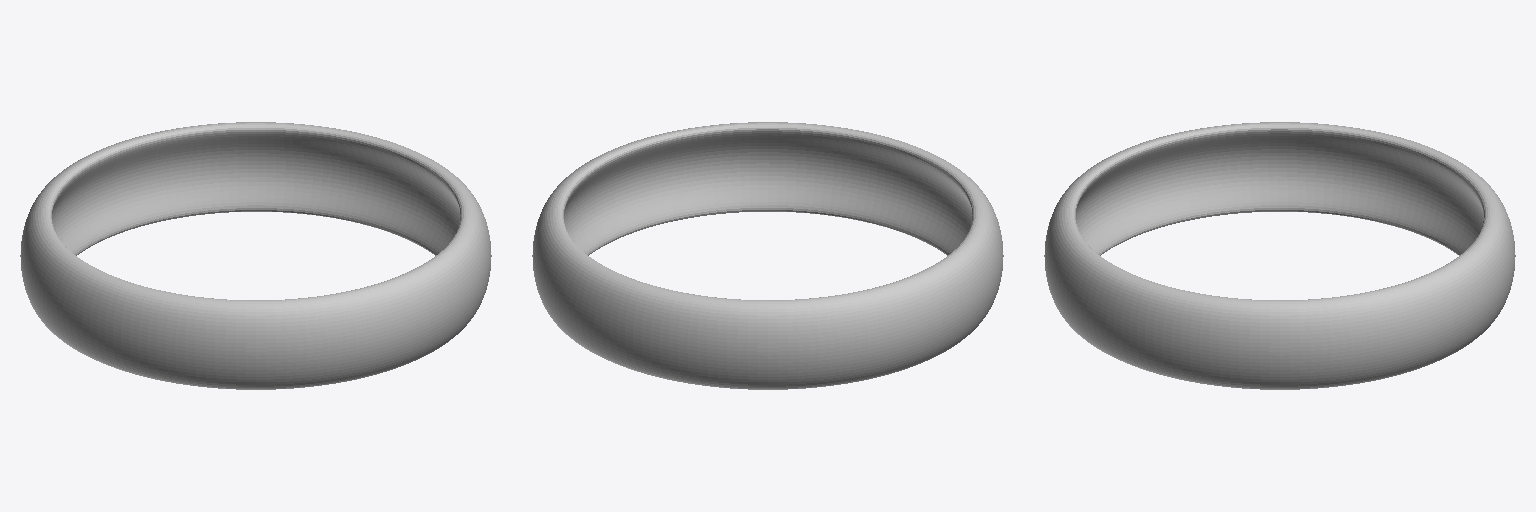
Rendered from ring2.obj.
3 views of the same model, side by side, from view 1: azimuth 30°, elevation 25°; view 2: azimuth 150°, elevation 25°; view 3: azimuth 270°, elevation 25° (orthographic).
Visible parts, largest first — view 1: Ring; view 2: Ring; view 3: Ring.
Boxes of the visible parts, <box> form: Ring: <box>20,122,491,389</box>; Ring: <box>532,122,1003,389</box>; Ring: <box>1044,122,1515,389</box>.
Size of the model in its own units: 3.58 by 0.7329 by 3.58.